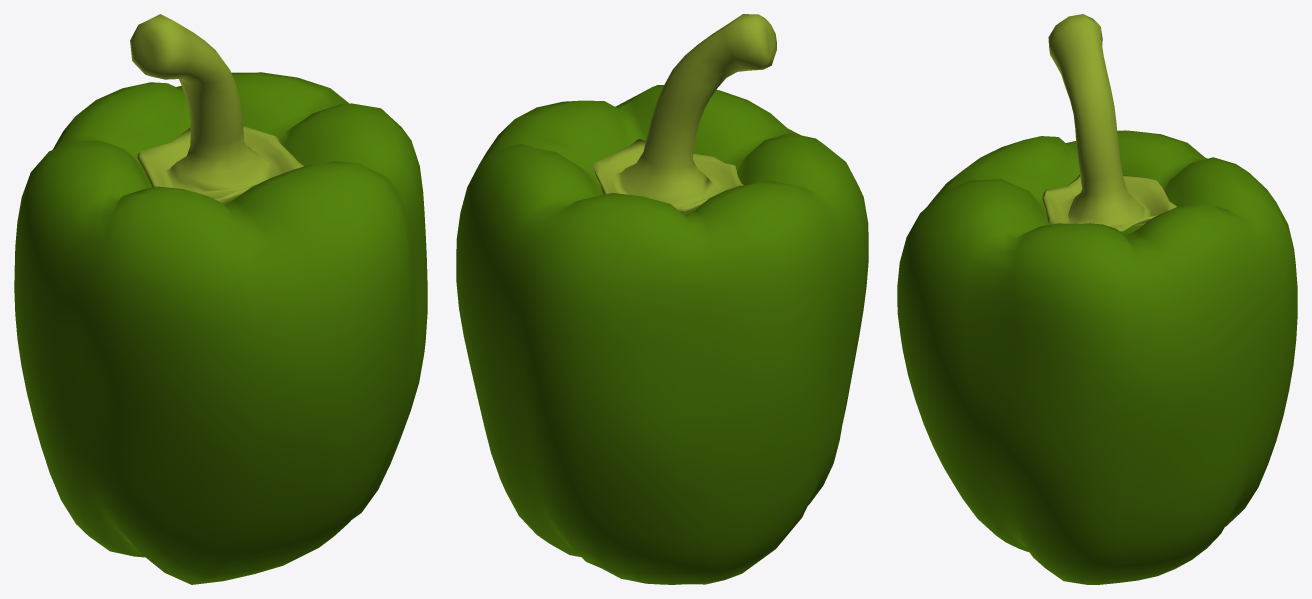
Rendered from BellPepper2.fbx.
3 renders of one model, left to right at view 1: azimuth 30°, elevation 25°; view 2: azimuth 150°, elevation 25°; view 3: azimuth 270°, elevation 25°, orthographic. The views are drawn at different scales.
Visible parts, largest first — view 1: BellPepper2; view 2: BellPepper2; view 3: BellPepper2.
Part boxes in pixels (box(x1,y1,x2,y2)): BellPepper2: box(14, 14, 427, 584); BellPepper2: box(456, 14, 868, 584); BellPepper2: box(897, 14, 1297, 584).
Size of the model in its own units: 0.0373 by 0.0539 by 0.0392.
